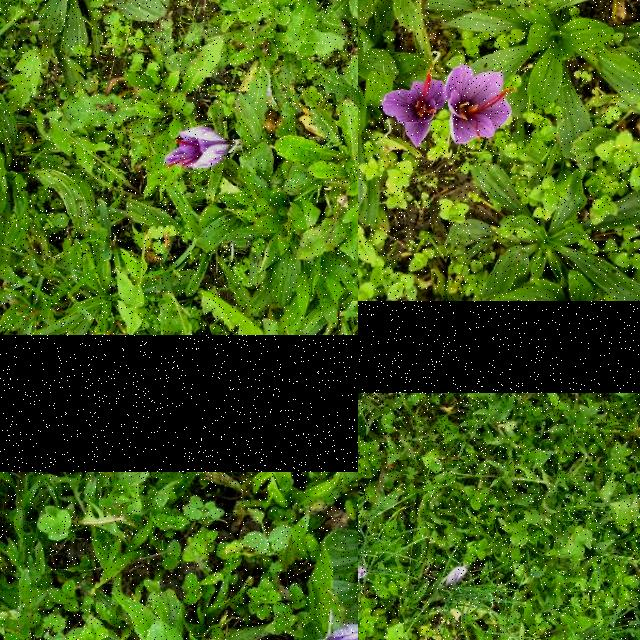flower: (445, 64, 517, 144), (382, 70, 446, 148), (164, 126, 233, 170), (327, 623, 358, 640), (444, 566, 468, 586), (358, 566, 367, 578)
